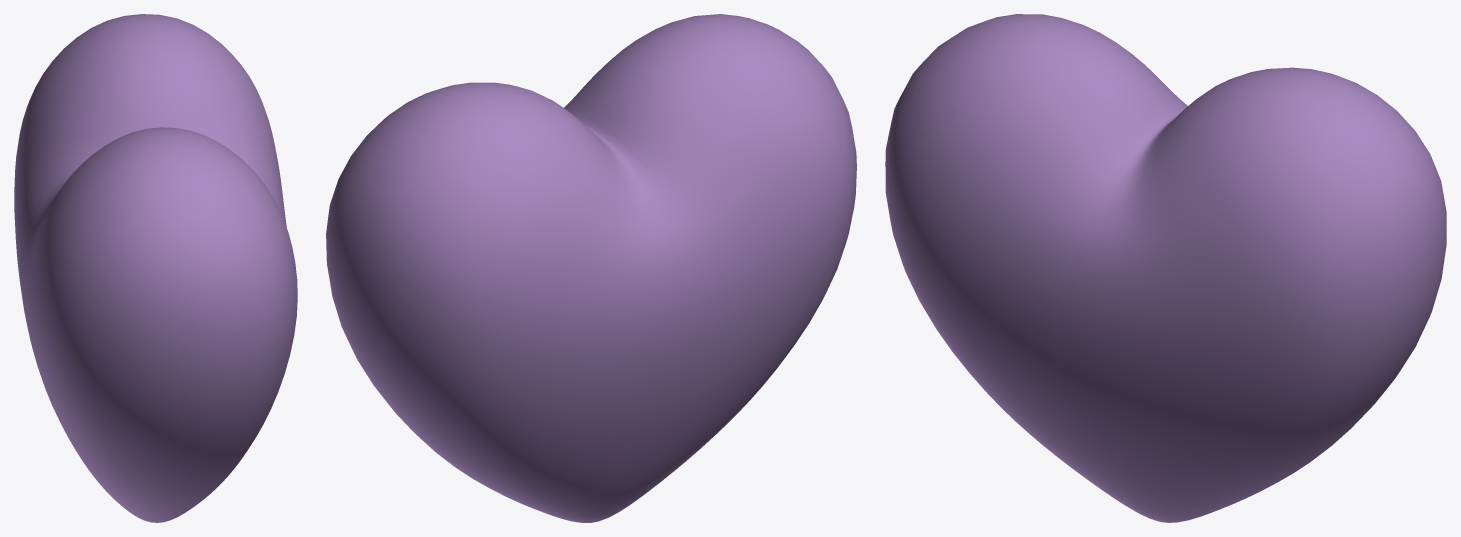
3 renders of one model, left to right at view 1: azimuth 30°, elevation 25°; view 2: azimuth 150°, elevation 25°; view 3: azimuth 270°, elevation 25°, orthographic. The views are drawn at different scales.
Parts seen in each view (by area): view 1: BASE HEART.001; view 2: BASE HEART.001; view 3: BASE HEART.001.
Boxes of the visible parts, left/top/right/bottom form: BASE HEART.001: left=14, top=14, right=297, bottom=522; BASE HEART.001: left=326, top=14, right=856, bottom=522; BASE HEART.001: left=885, top=14, right=1446, bottom=522.
Bounding box in the file's own units: 0.6601 × 0.8168 × 0.888.
